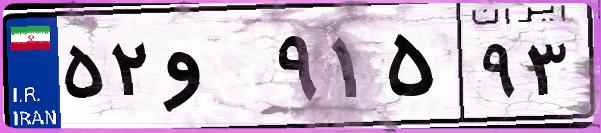1: (330, 28, 385, 110)
2: (110, 28, 158, 98)
3: (525, 38, 570, 115)
5: (385, 28, 445, 110), (57, 26, 110, 100)
9: (270, 28, 330, 110), (475, 38, 525, 113)
و: (158, 20, 270, 120)
